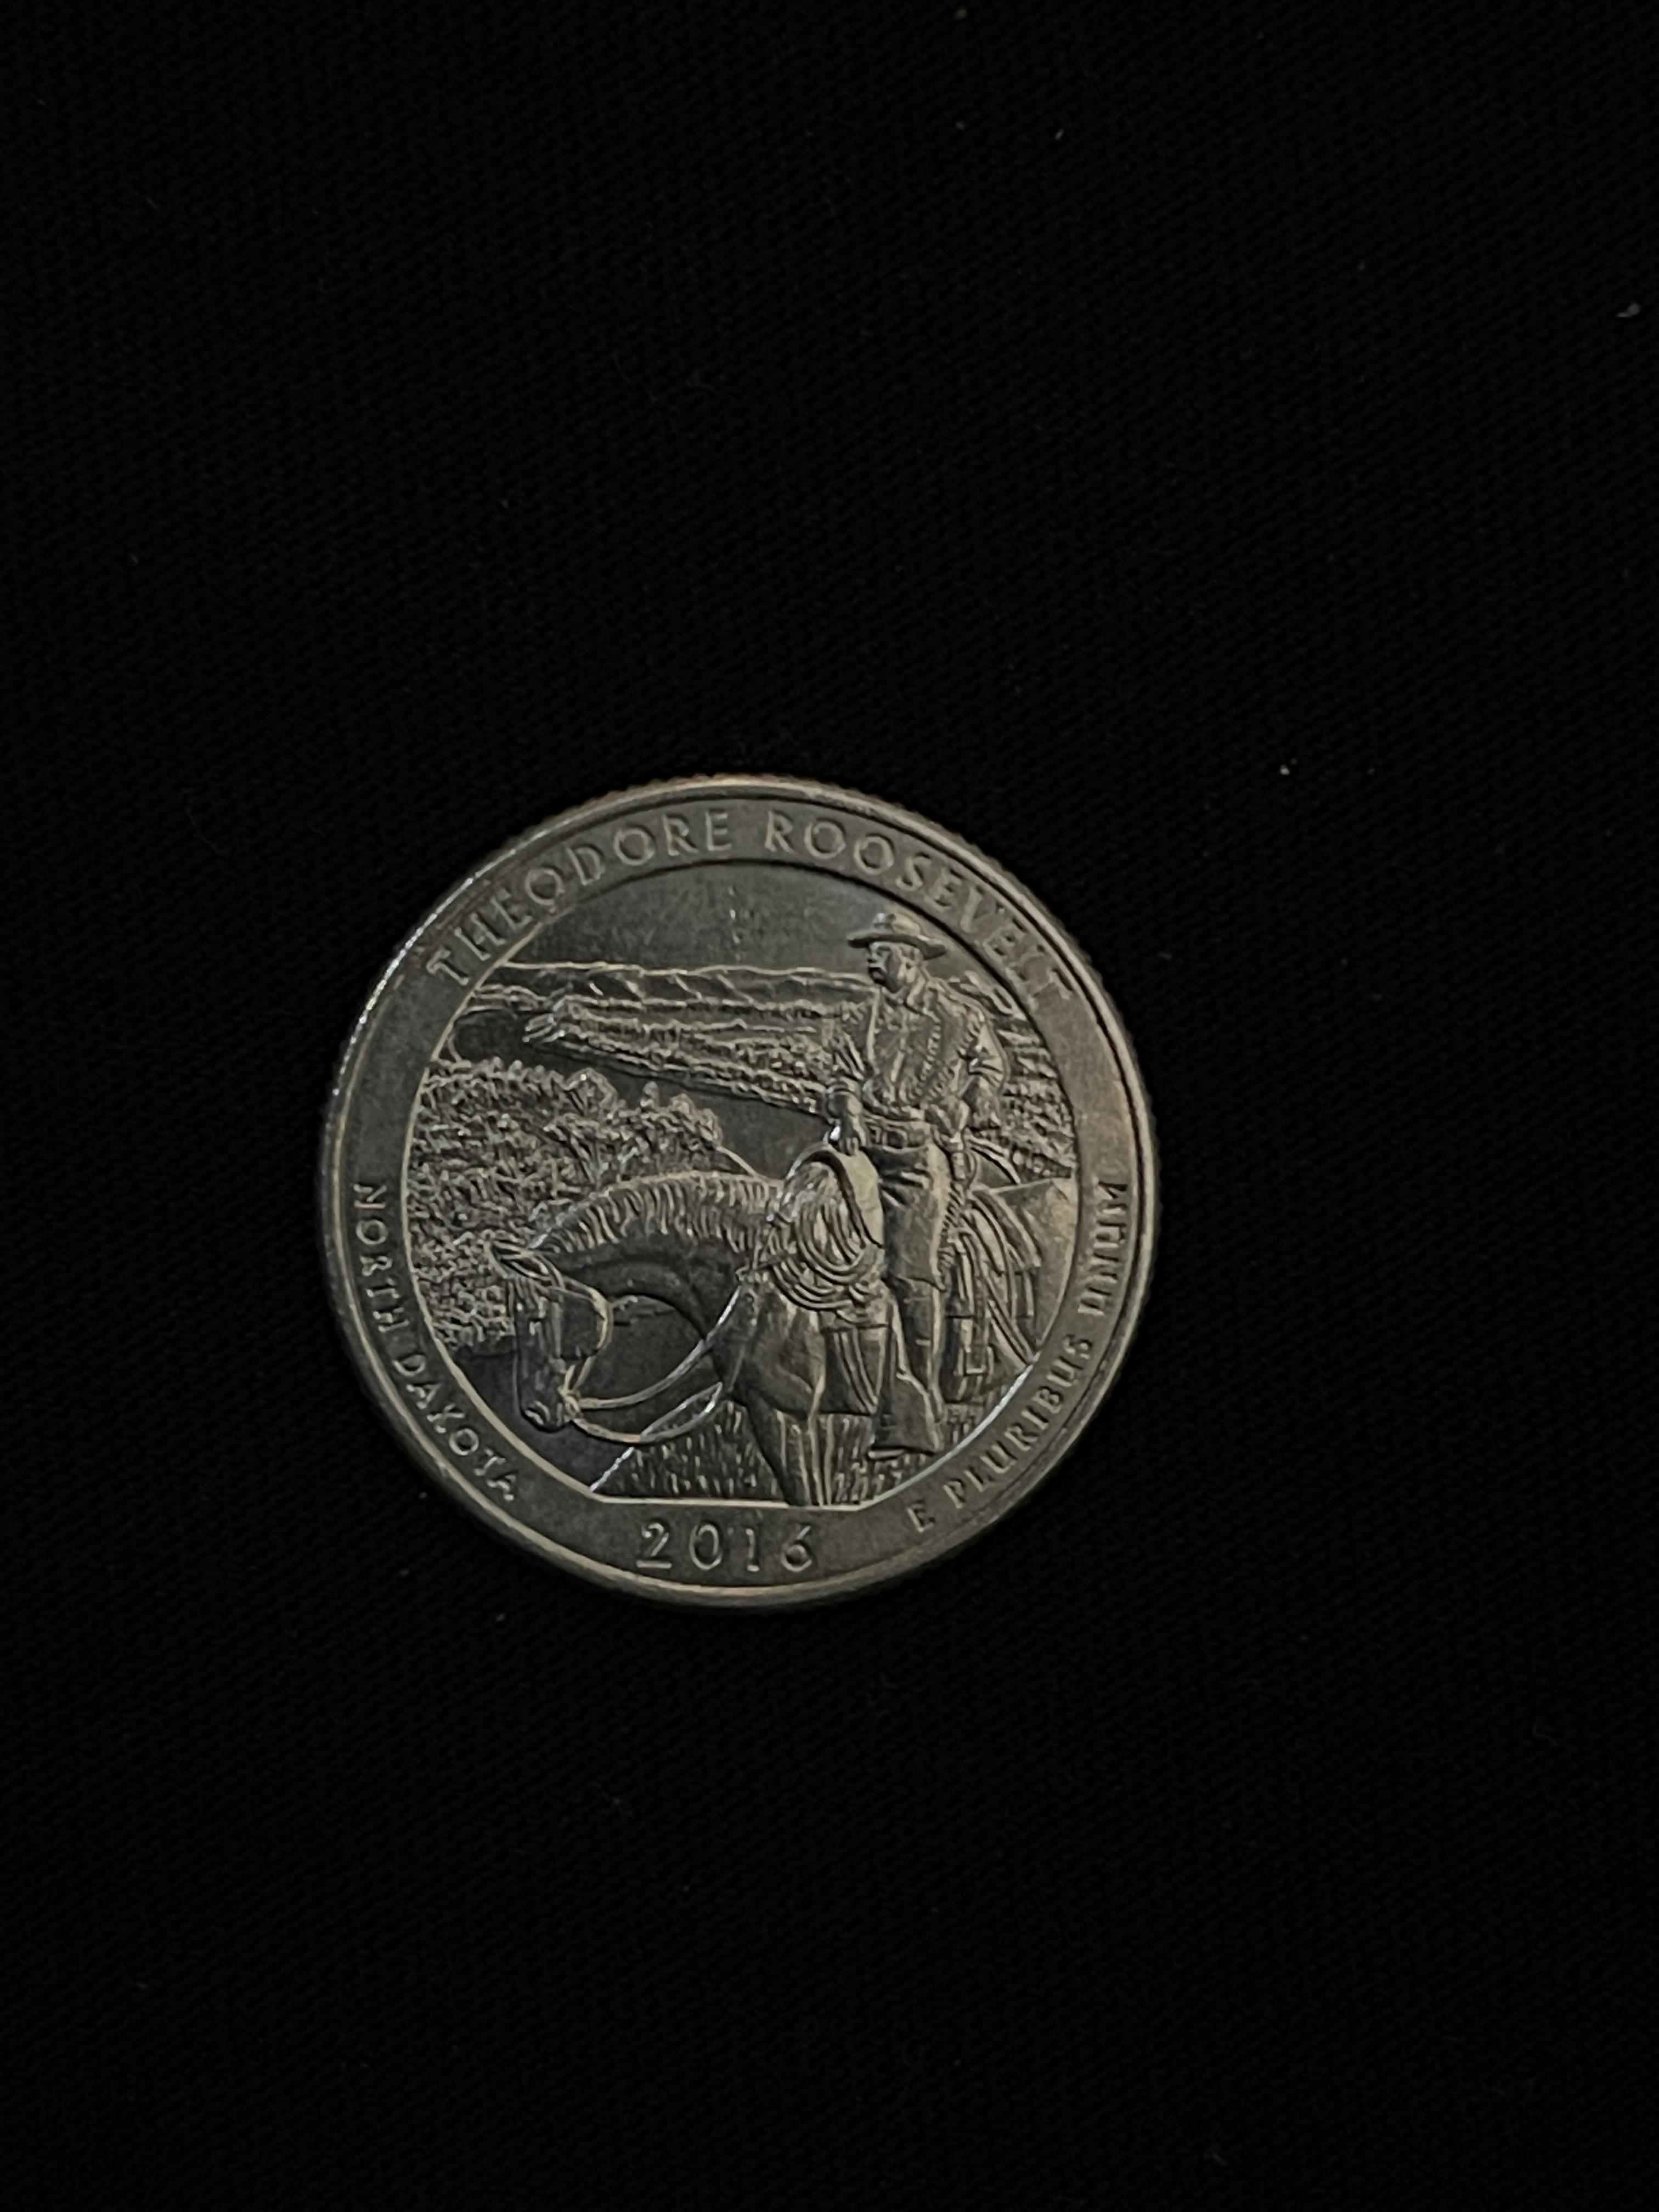Quarter: (312, 768, 1162, 1618)
